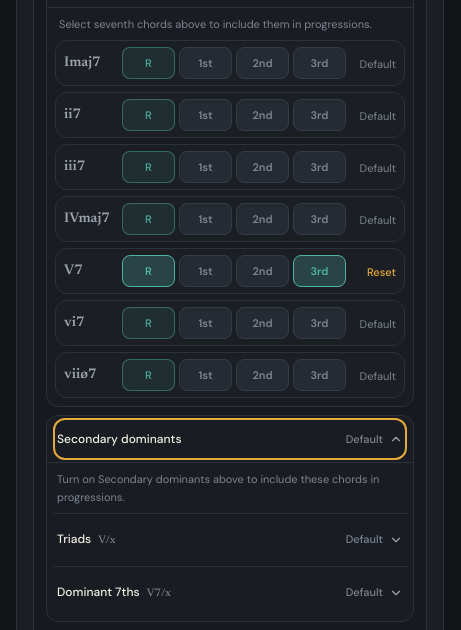
Paws Off App UI › provides progressive-disclosure per-chord inversion drawers for sevenths and secondary dominants even when unchecked
The width and height of the screenshot is (461, 630).
Earlier steps of the test are not shown.
(page scrolled)
Expected: the button "Secondary dominants Default" is expanded, 57,422 -> 403,456
Expected: the text "Turn on Secondary dominants above to include these chords in progressions" is shown, 57,472 -> 379,504
# Expand Level 3a (Triads V/x) and Level 3b (Dominant 7ths V7/x) and set overrides
Click the button "Triads V/x Default". click: (74, 539)
box: 57,524 -> 403,556
(page scrolled)
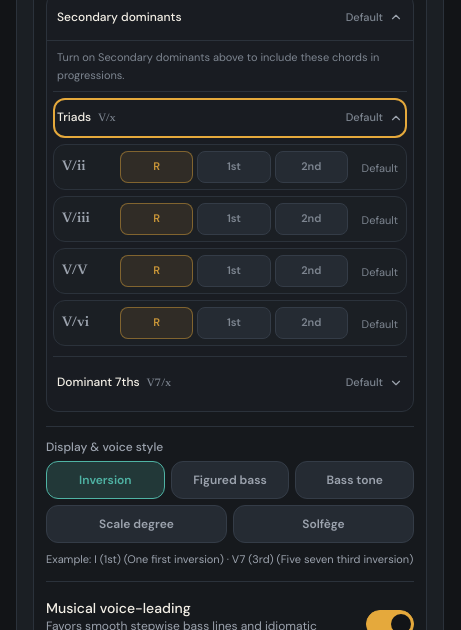
Expected: the button "Triads V/x Default" is expanded, 57,102 -> 403,134
Click the button with aria-label "V/V first inversion". click: (234, 271)
box: 197,255 -> 271,287
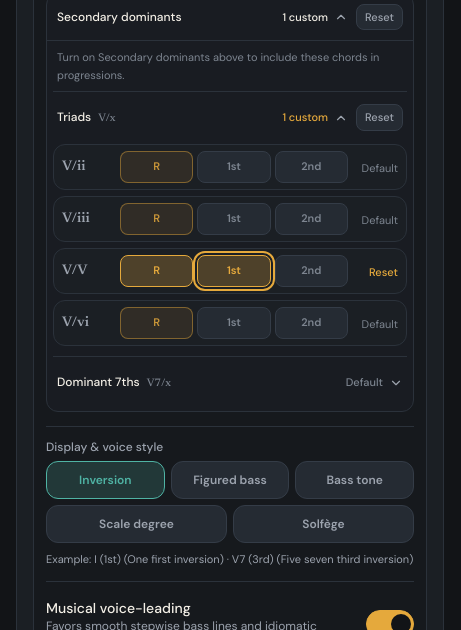
Click the button "Dominant 7ths V7/x Default". click: (98, 382)
box: 57,367 -> 403,399
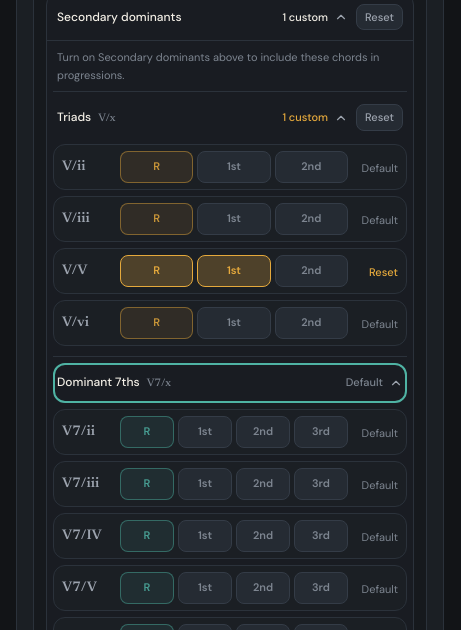
Expected: the button "Dominant 7ths V7/x Default" is expanded, 57,367 -> 403,399
Click the button with aria-label "V7/IV third inversion". click: (321, 536)
box: 294,520 -> 348,552
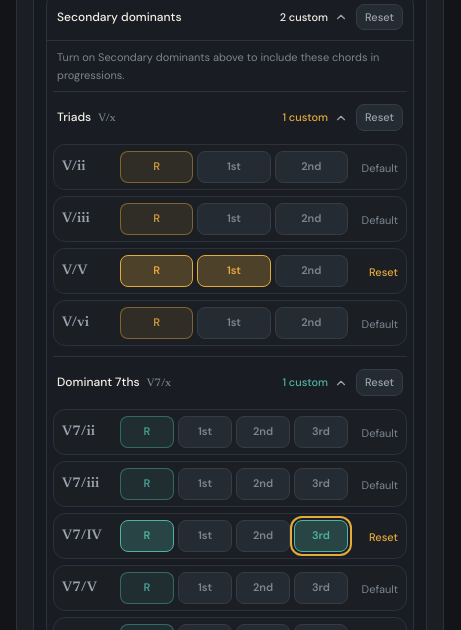
Click the button with aria-label "Reset secondary triad overrides". click: (380, 118)
box: 356,104 -> 403,131
(page scrolled)
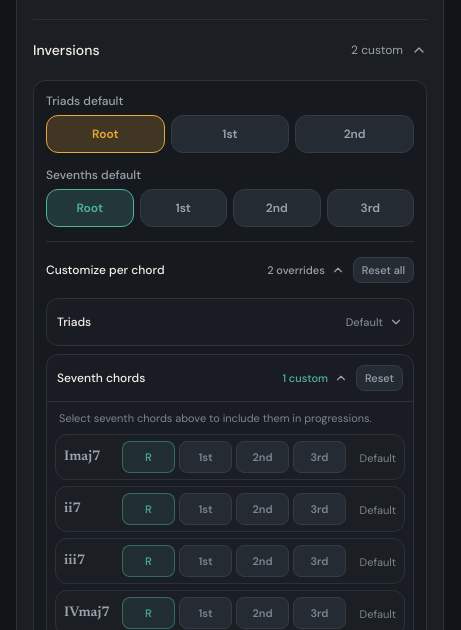
Expected: the text "2 overrides" is shown, 267,263 -> 325,277
# Reset all overrides globally
Click the button "Reset all". click: (383, 270)
box: 353,257 -> 414,283
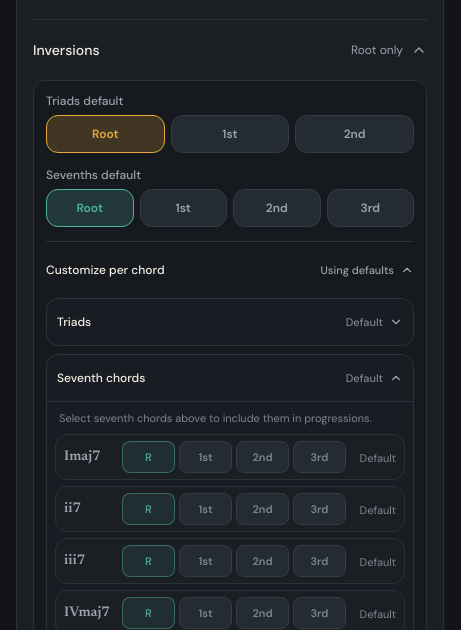
Expected: the text "Using defaults" is shown, 320,263 -> 394,277
